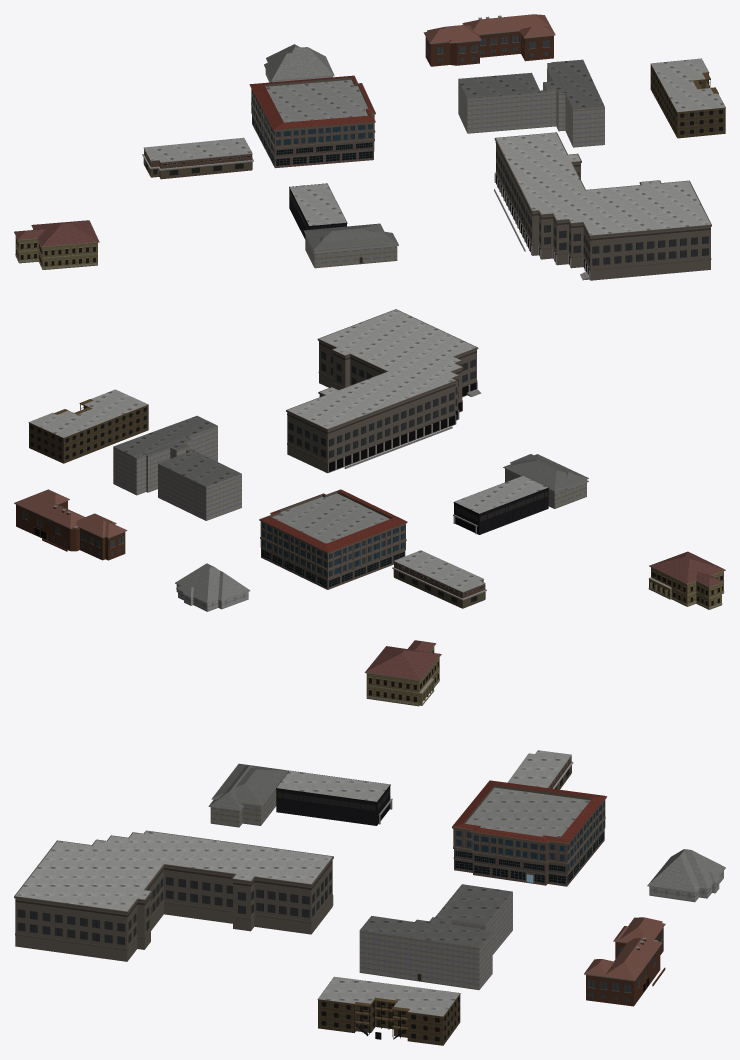
The picture shows the model from 3 angles, top to bottom: view 1: azimuth 30°, elevation 25°; view 2: azimuth 150°, elevation 25°; view 3: azimuth 270°, elevation 25°; orthographic projection. The views are drawn at different scales.
Visible parts, largest first — view 1: opaque (×10), glass; view 2: opaque (×10), glass; view 3: opaque (×10), glass.
Boxes of the visible parts, <box> form: opaque (×10): <box>14,14,725,280</box>; glass: <box>266,71,600,264</box>; opaque (×10): <box>14,309,725,611</box>; glass: <box>116,432,584,607</box>; opaque (×10): <box>14,640,725,1045</box>; glass: <box>216,791,722,985</box>.
Bounding box in the file's own units: 257 × 15.94 × 204.
24 materials, 24 textured.
